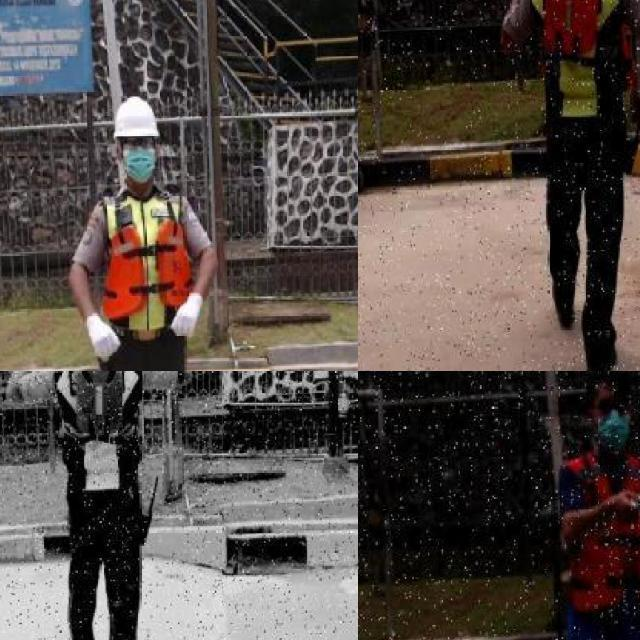apron: (80, 308, 124, 367), (170, 291, 204, 344)
